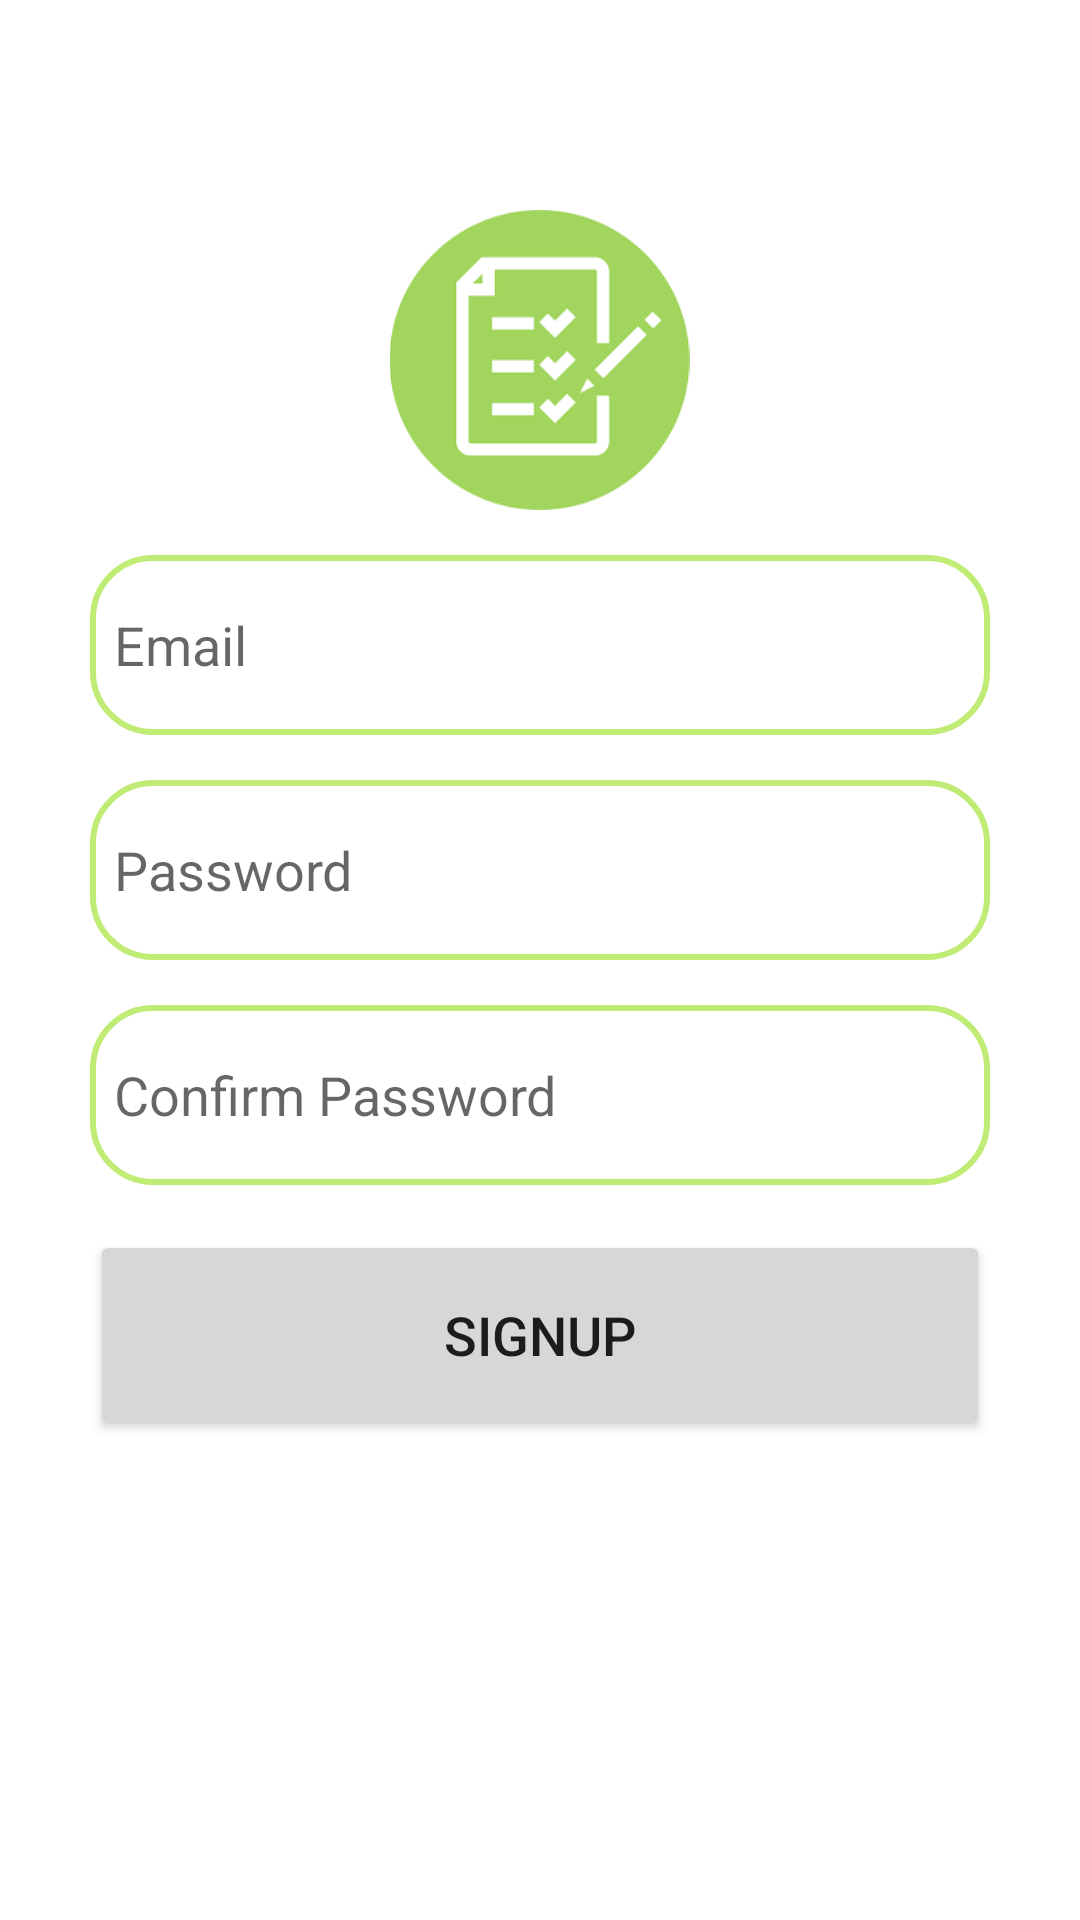

Icons on this 1080px×1920px Android screen, each with the point to tap as point (x, y):
signimg: point (540, 360)
